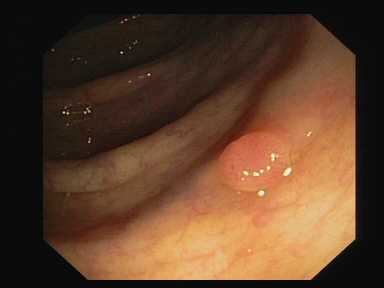polyp: (207, 116, 305, 198)
